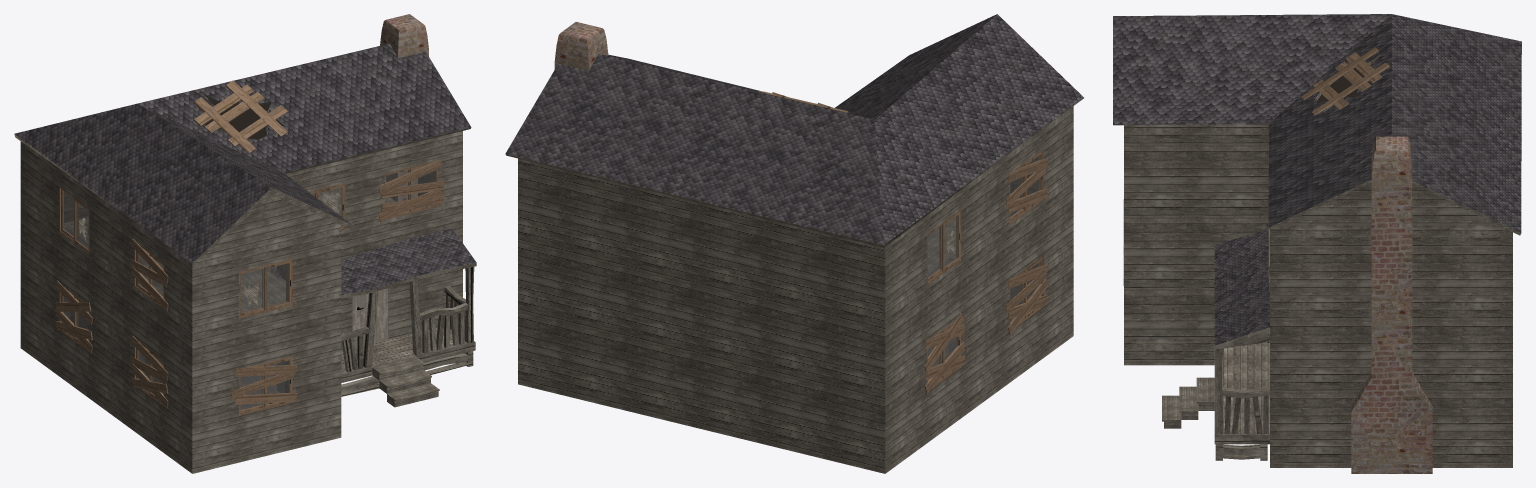
Rendered from house.glb.
3 renders of one model, left to right at view 1: azimuth 30°, elevation 25°; view 2: azimuth 150°, elevation 25°; view 3: azimuth 270°, elevation 25°, orthographic. The views are drawn at different scales.
Visible parts, largest first — view 1: House; view 2: House; view 3: House.
Boxes of the visible parts, bbox=[...] form: House: bbox=[14, 14, 476, 473]; House: bbox=[505, 14, 1083, 473]; House: bbox=[1113, 14, 1521, 473].
Bounding box in the file's own units: 18.87 × 14.65 × 16.81.
7 materials, 5 textured.
